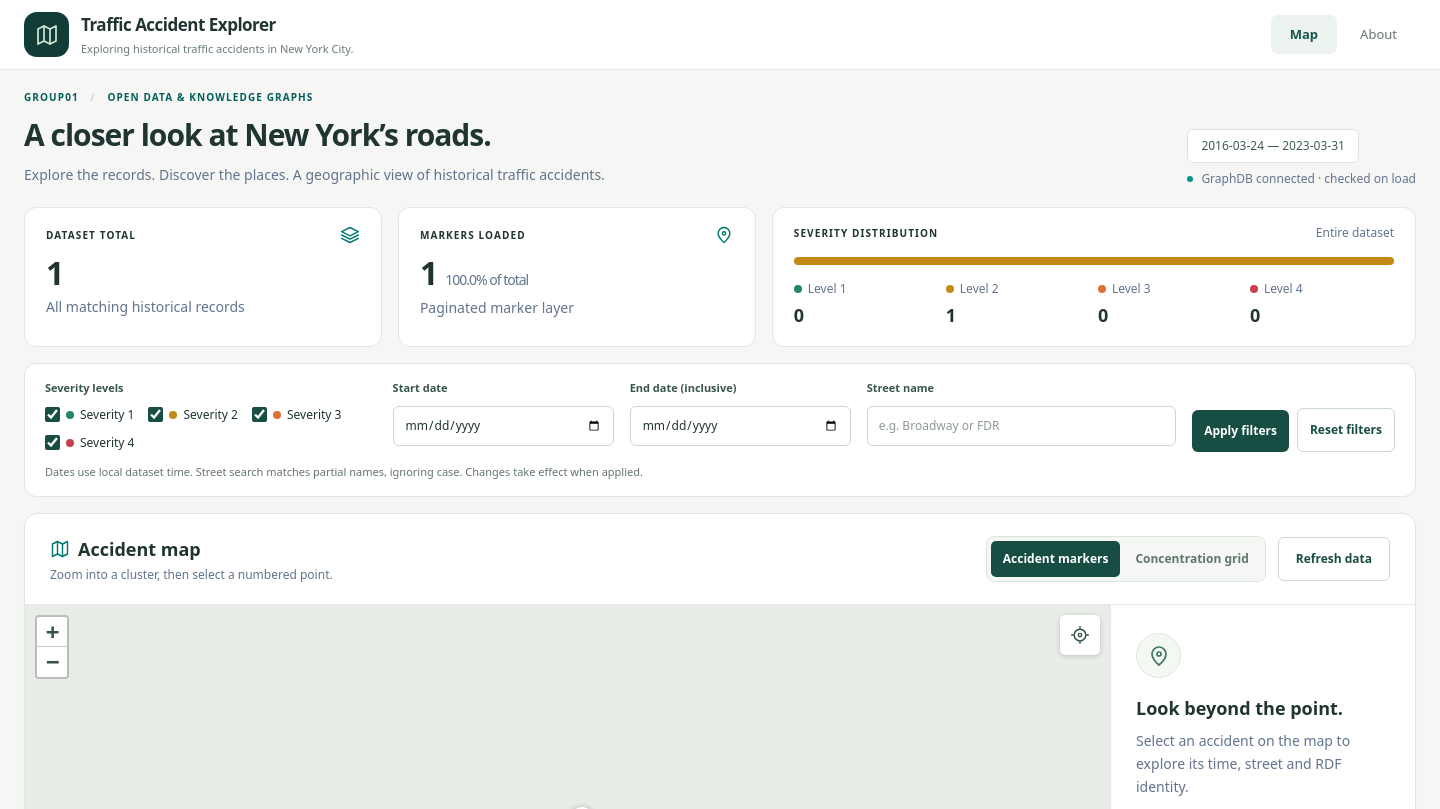
it: complete-population concentration view › rejects inconsistent totals instead of claiming a partial grid is complete
Click the button "Concentration grid" at (1192, 559), box [1123, 541, 1261, 577]
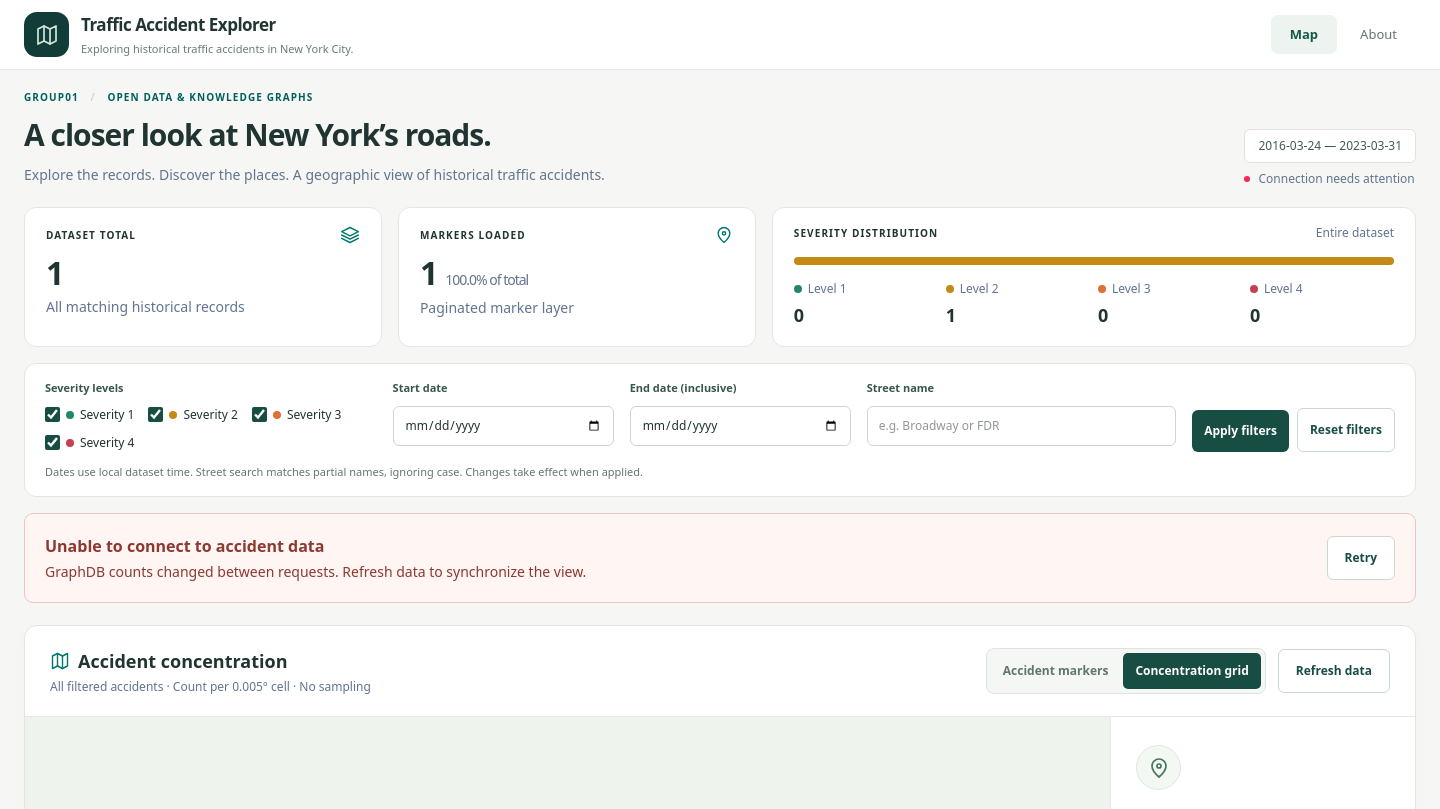
Check: the message that starts with "Unable to connect to accident data" shows "counts changed", box [45, 562, 586, 581]
